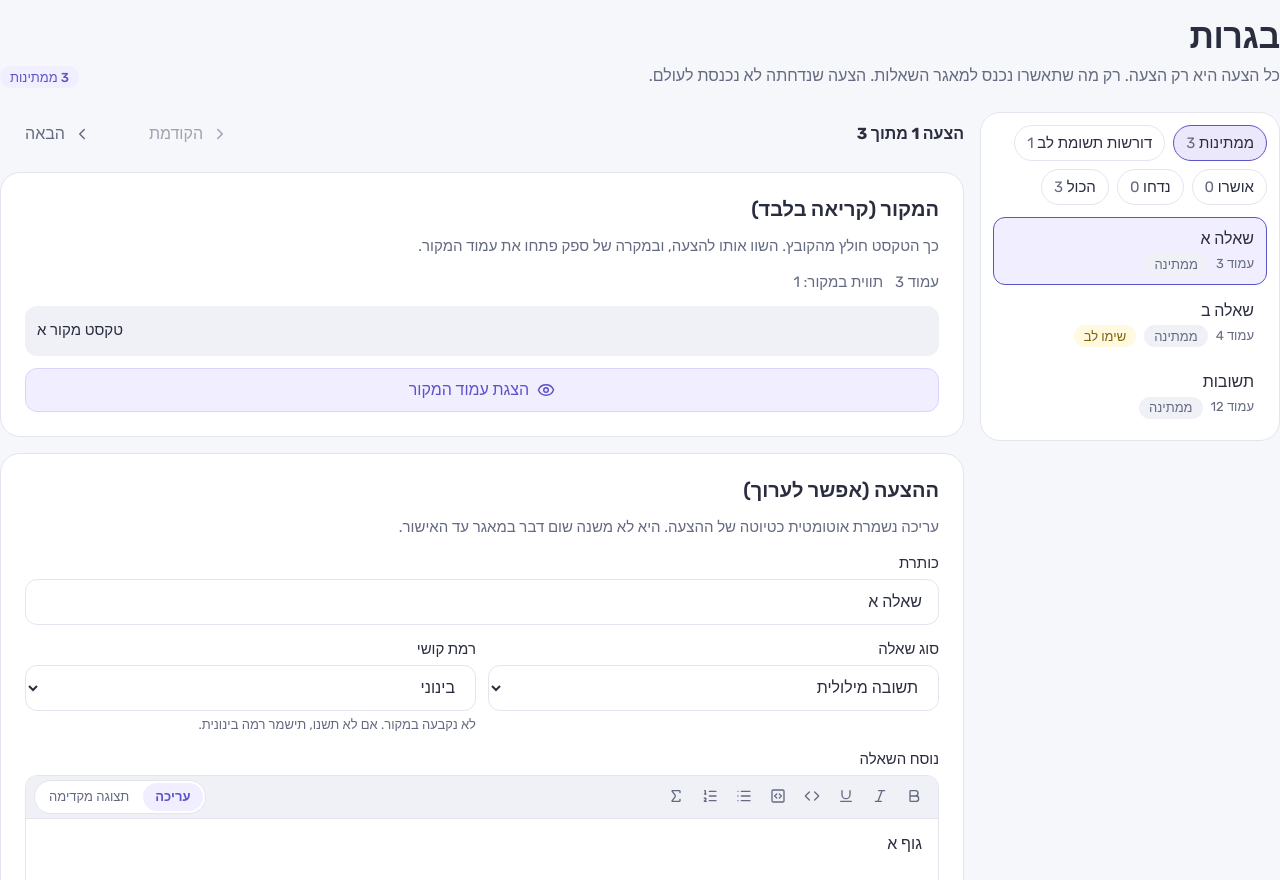
ImportReviewPage › editing autosaves the draft (whitelisted keys) before approving
This screenshot has width=1280, height=880.
Clear the field showing "שאלה א" at (482, 602), box [25, 579, 939, 625]
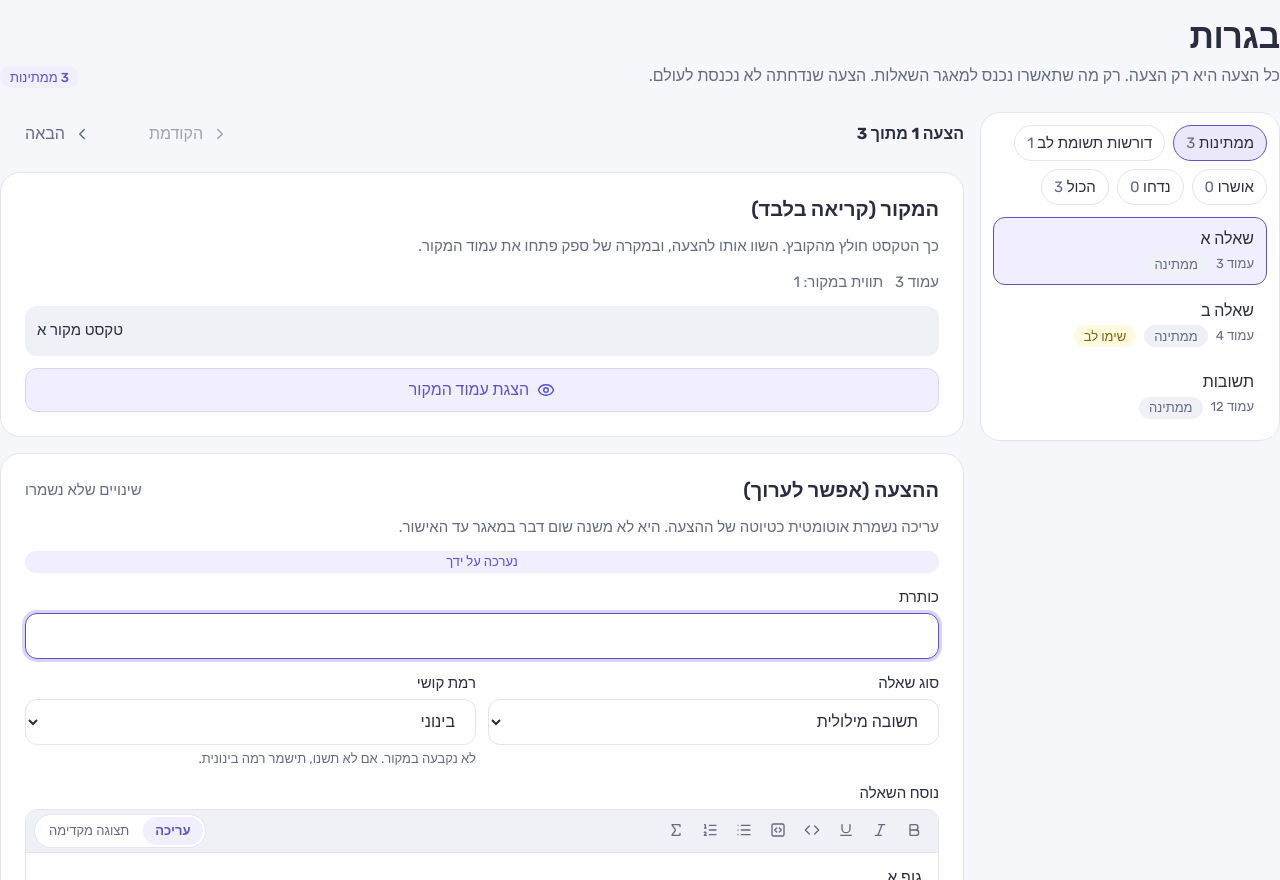
Type "כותרת חדשה" into the field showing "שאלה א" at (482, 636), box [25, 613, 939, 659]
(page scrolled)
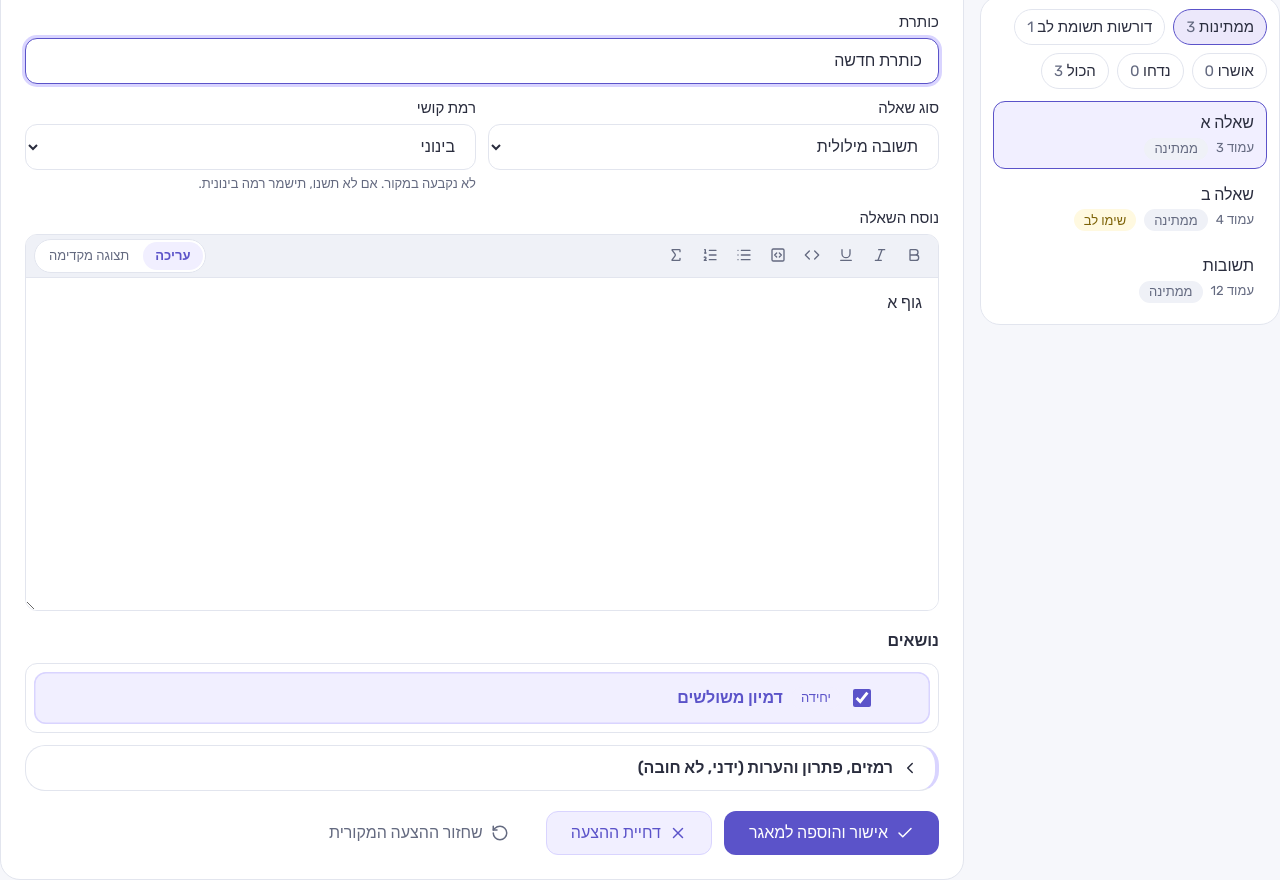
Click the button "אישור והוספה למאגר" at (831, 832), box [724, 810, 939, 854]
(page scrolled)
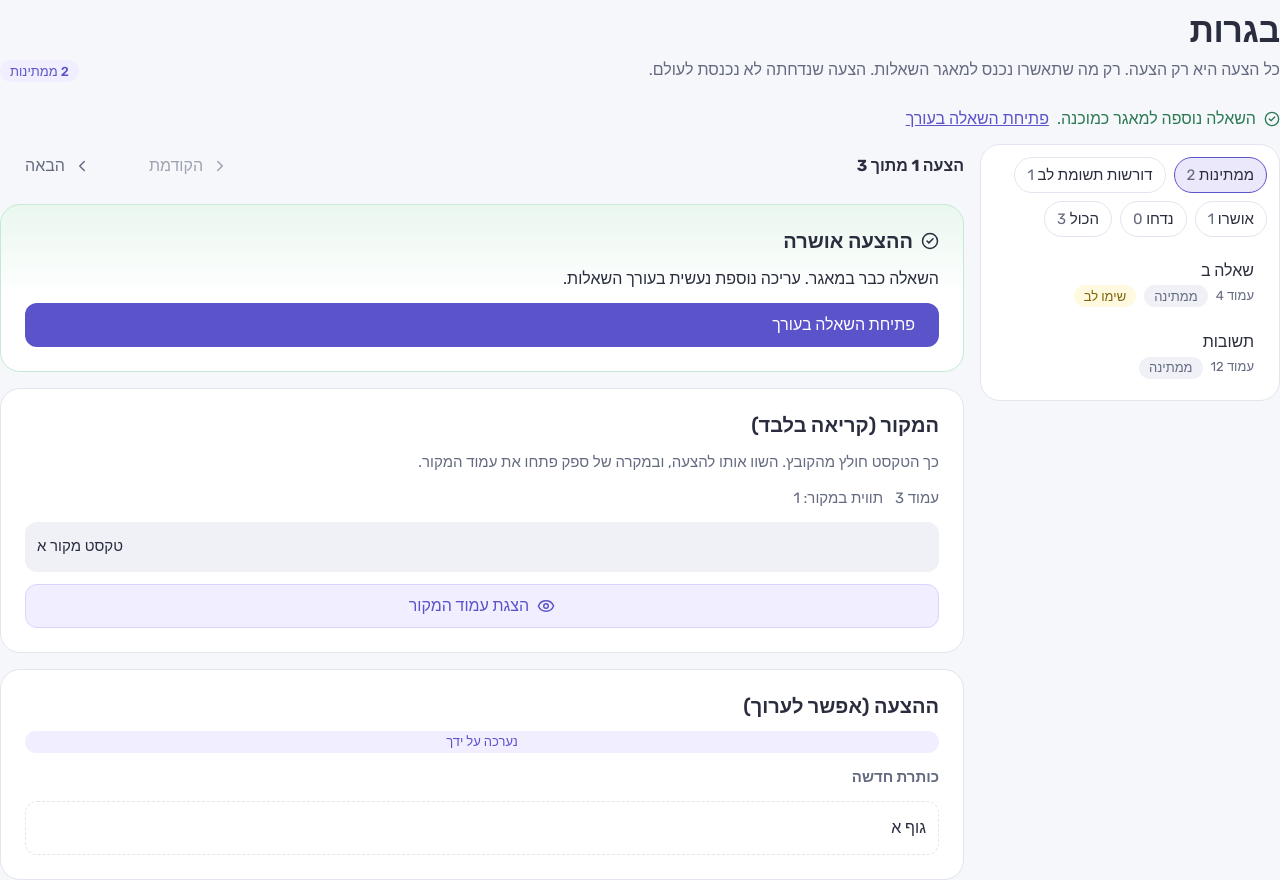
Expected: the text "כותרת חדשה" is shown, [852, 765, 939, 789]
